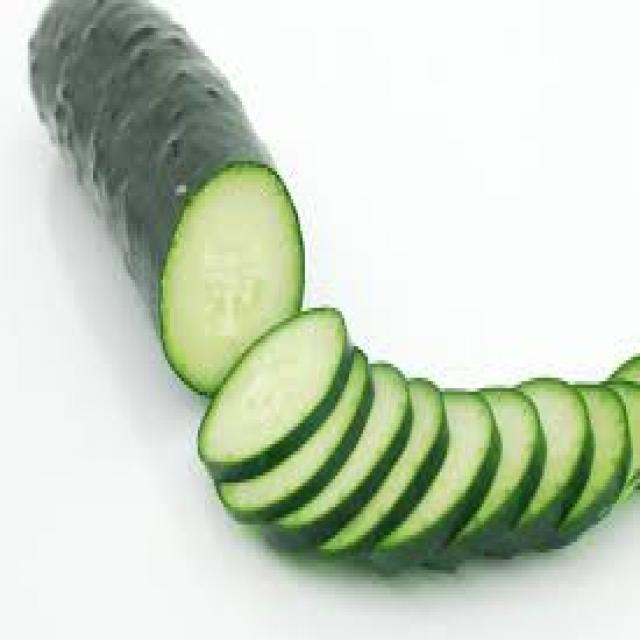organic waste: (25, 0, 302, 395), (212, 342, 372, 524), (193, 301, 349, 486), (263, 357, 410, 552), (319, 374, 444, 563), (377, 385, 498, 563), (452, 384, 544, 560), (538, 374, 628, 539), (514, 374, 589, 560), (602, 374, 638, 507), (607, 350, 638, 381)
